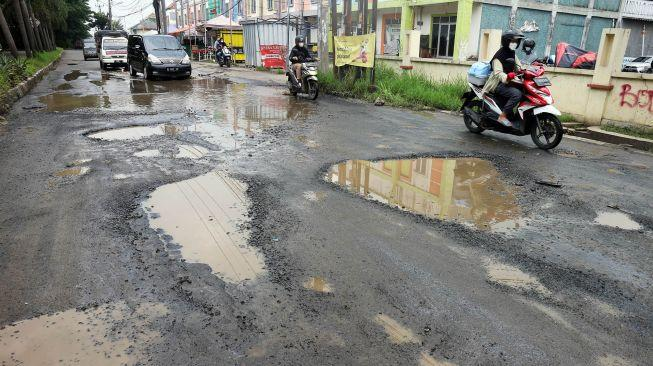Pothole: (42, 69, 317, 159), (317, 153, 525, 236), (139, 171, 273, 289), (0, 299, 186, 366), (373, 313, 454, 365), (483, 258, 547, 296), (81, 121, 194, 141), (593, 205, 645, 233), (582, 290, 628, 319), (49, 157, 94, 179), (301, 273, 341, 296), (595, 350, 633, 366), (174, 142, 209, 159), (132, 146, 162, 159), (300, 133, 318, 149)
